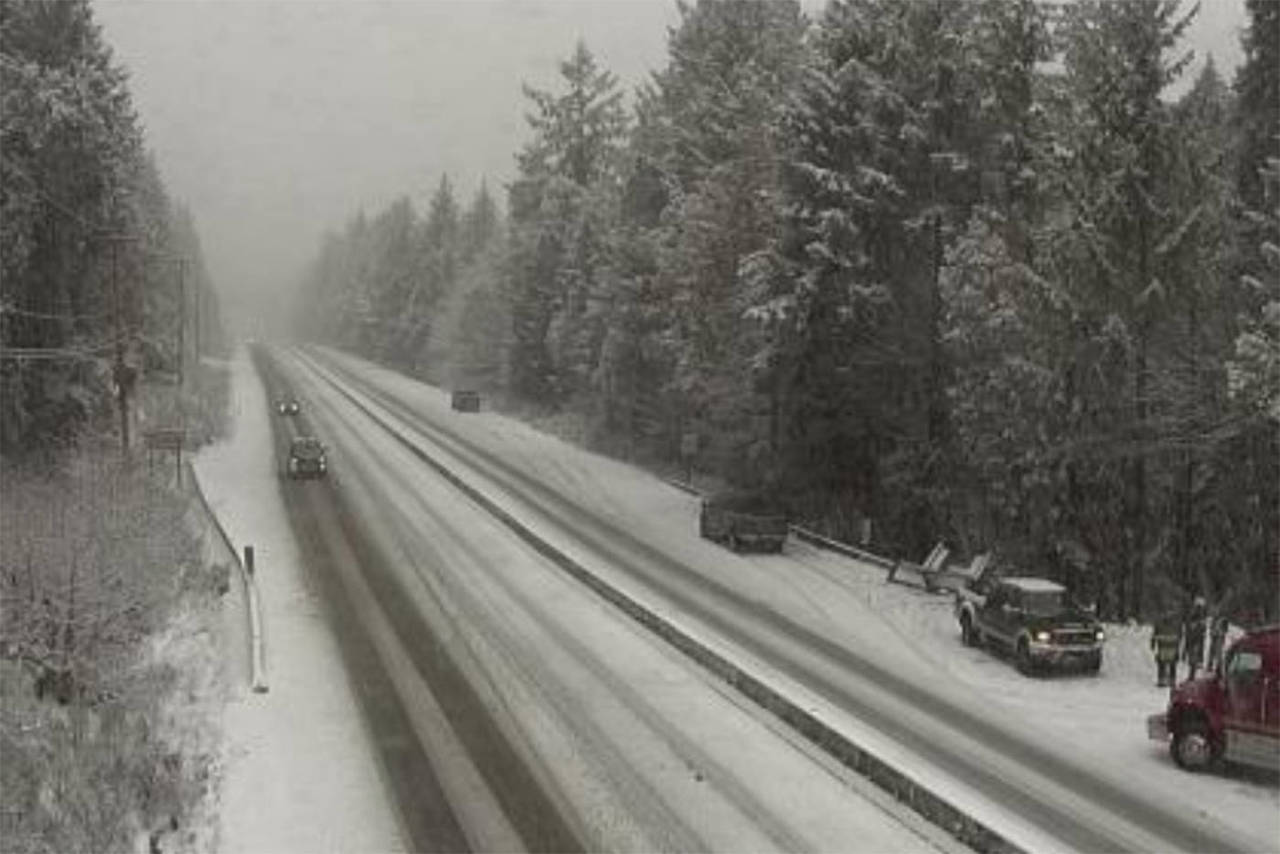car: (1166, 633, 1273, 784), (949, 575, 1101, 672), (694, 485, 780, 554), (282, 430, 329, 477), (272, 388, 303, 420)
person: (1149, 594, 1176, 683), (1209, 603, 1235, 672), (1185, 600, 1204, 679)
